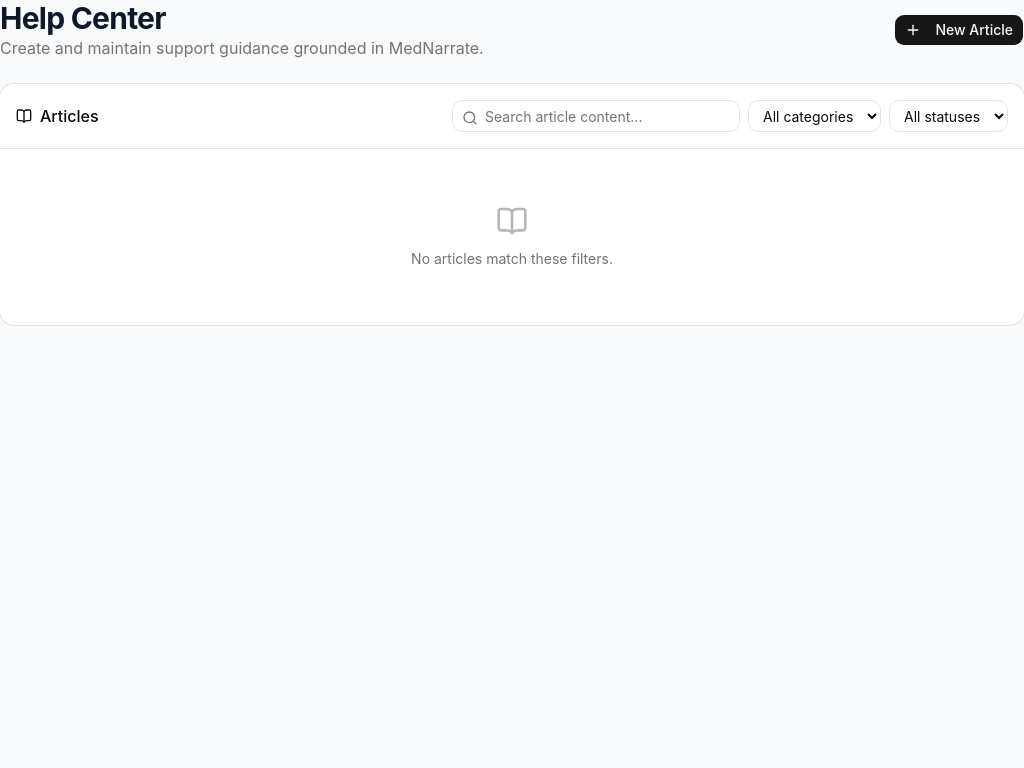
Test: HelpCenterPage › opens the create editor for managers
The width and height of the screenshot is (1024, 768).
Click the button "New Article" at (959, 30), box [894, 14, 1023, 46]
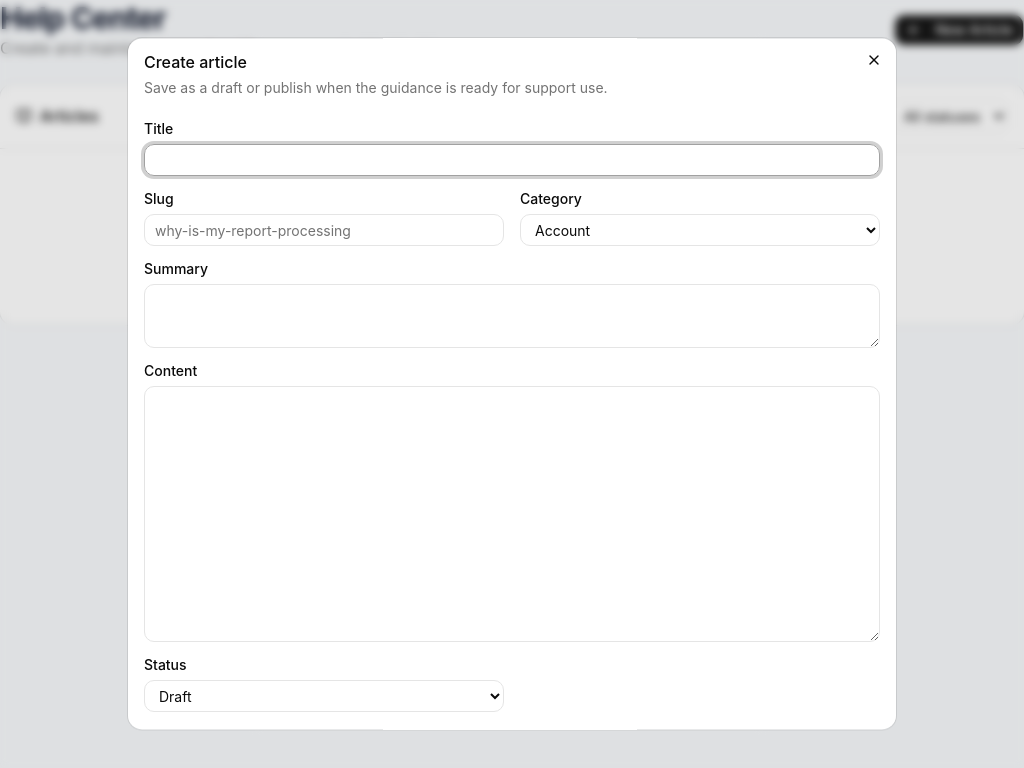
Check: the text box labelled "Content" is shown, box [144, 386, 880, 642]
Check: the heading "Create article" is shown, box [144, 52, 247, 72]
Check: the field labelled "Title" is shown, box [144, 144, 880, 176]
